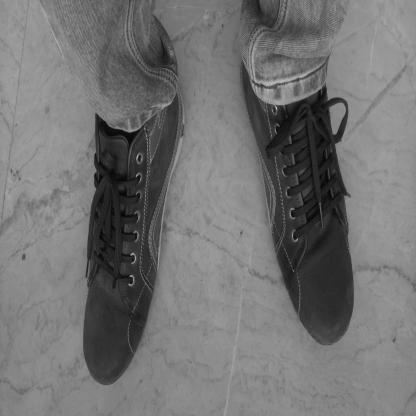ankle: (269, 94, 275, 103), (152, 126, 156, 130)
heel: (243, 67, 251, 77), (179, 94, 182, 98)
left_foot: (241, 59, 355, 345)
pinky: (86, 338, 89, 351), (349, 275, 353, 284)
right_foot: (84, 84, 188, 387)
toe: (305, 310, 312, 326), (116, 357, 122, 370)
